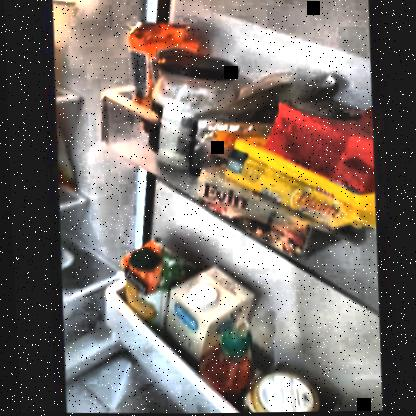butter: (203, 144, 372, 244)
milk: (161, 271, 237, 352)
